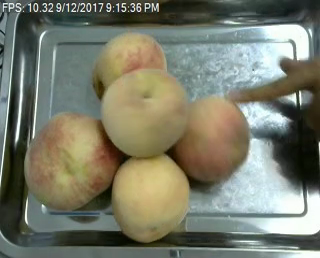Peach: (24, 110, 120, 211), (163, 95, 252, 184), (101, 68, 190, 156), (111, 154, 189, 244), (93, 32, 166, 103)
